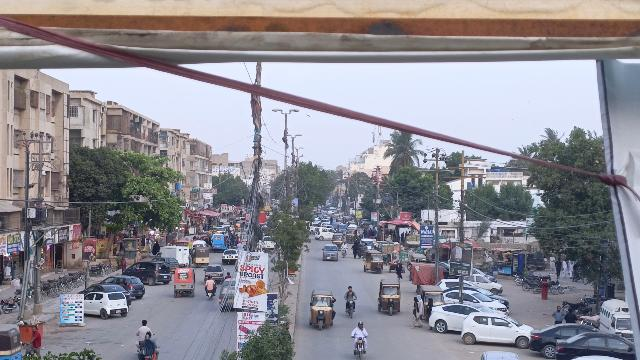Bike: (351, 335, 370, 360), (139, 333, 156, 355), (343, 297, 359, 319)
Car: (461, 309, 534, 349), (555, 331, 635, 359), (528, 322, 587, 357), (429, 300, 490, 333), (85, 290, 130, 319), (126, 261, 171, 286), (108, 274, 145, 298), (321, 244, 339, 262)
Person: (410, 297, 423, 330), (350, 321, 369, 340), (136, 317, 152, 339), (31, 326, 42, 357), (550, 303, 565, 324), (343, 284, 359, 301), (416, 293, 424, 324), (424, 296, 434, 320), (565, 307, 577, 324)
Rickshaw: (307, 287, 337, 332), (376, 277, 403, 316), (172, 266, 197, 298), (361, 249, 385, 274), (191, 246, 210, 267)
Suzuki: (598, 298, 636, 342)
Truck: (160, 245, 189, 266)
Van: (218, 278, 236, 313)
